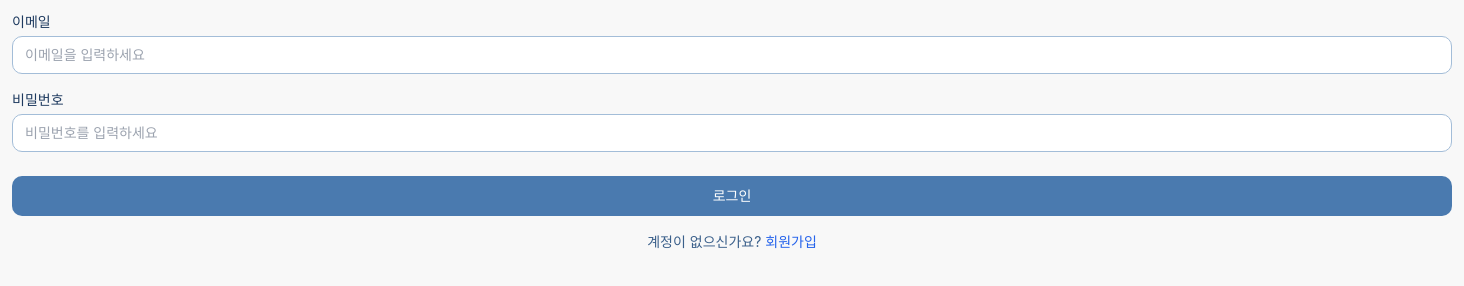
Test: LoginForm › 유효성 검증 › 이메일 형식이 잘못된 경우 오류 메시지를 표시한다
In the field labelled "이메일": (732, 55) left=12, top=36, right=1452, bottom=74, type "invalid-email"
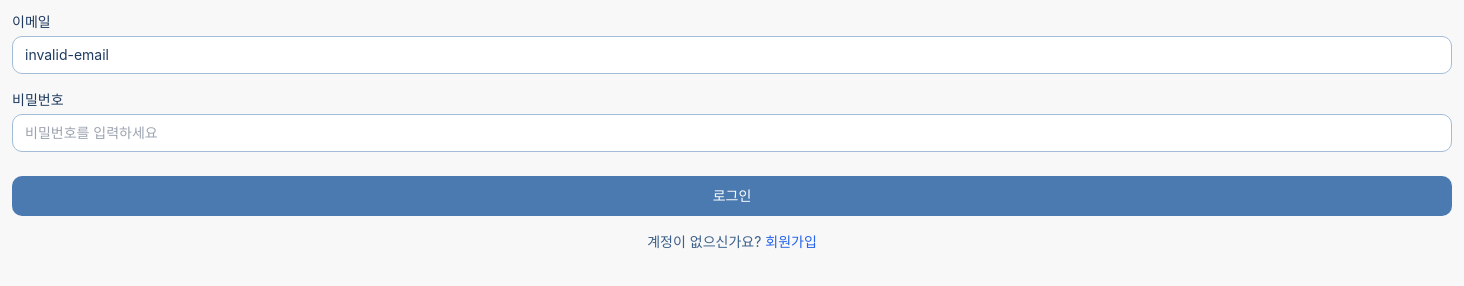
In the password field labelled "비밀번호": (732, 133) left=12, top=114, right=1452, bottom=152, type "password123"
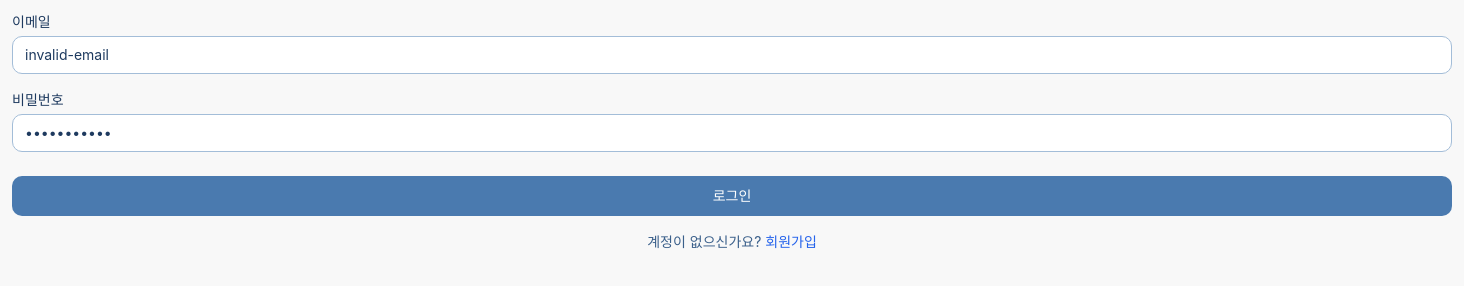
Click the button "로그인": (732, 196) left=12, top=176, right=1452, bottom=216
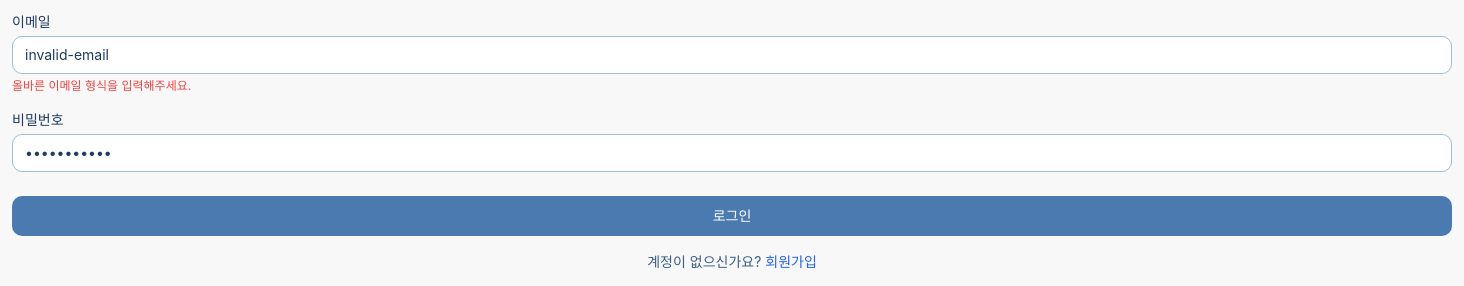
Expected: the text "올바른 이메일 형식을 입력해주세요." is shown, left=12, top=78, right=191, bottom=93
